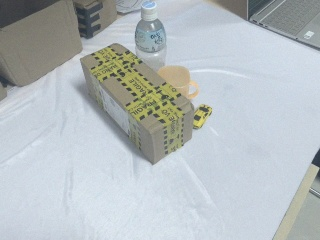bottle: (135, 1, 167, 72)
box: (81, 44, 193, 164), (1, 1, 82, 86)
cup: (157, 65, 200, 100)
toy_car: (192, 103, 212, 130)
